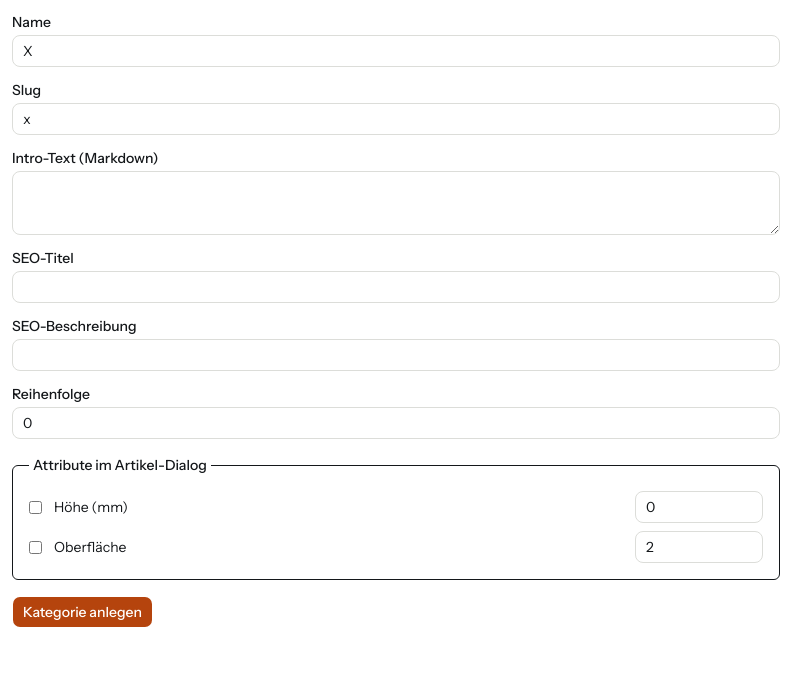
it: CategoryForm errors (SC-10) › shows the form error as an alert
Click the button "Kategorie anlegen" at point(82, 612), box [12,596,153,628]
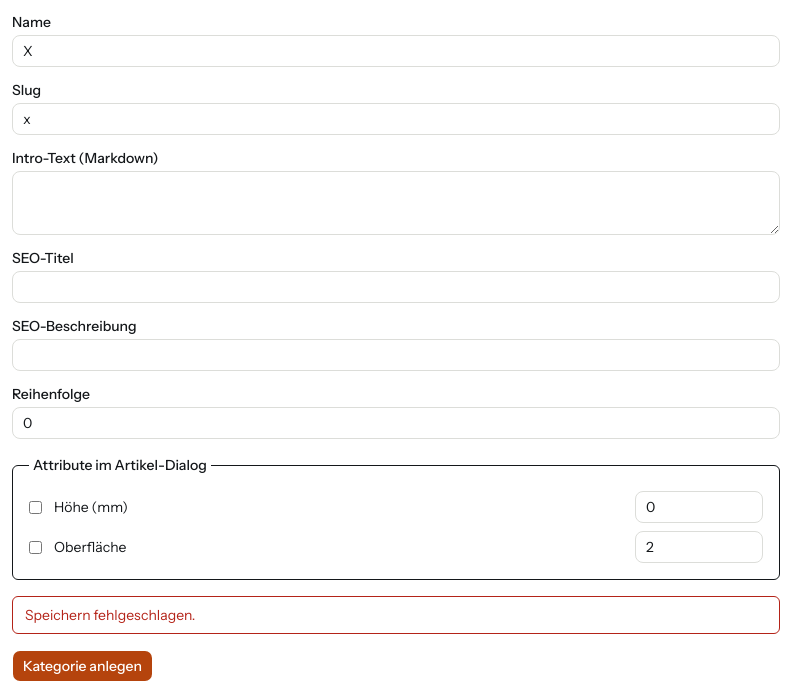
Check: the message reads "Speichern fehlgeschlagen.", box [25,606,195,624]
